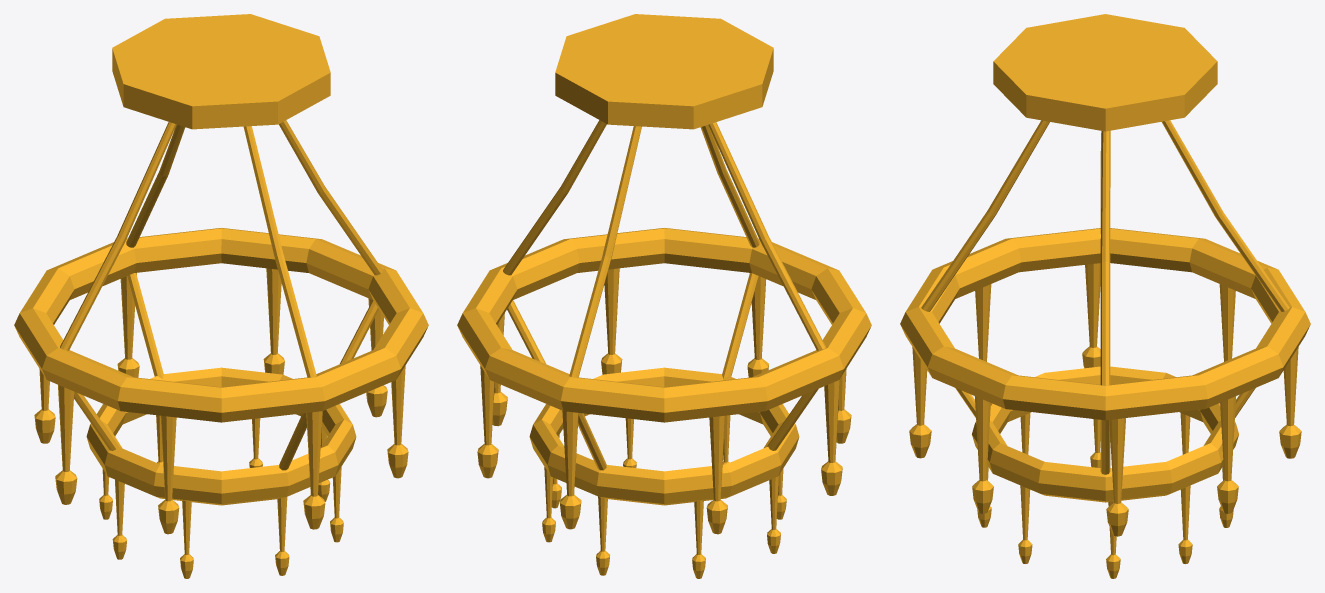
The model's file is Chandelier.fbx.
The picture shows the model from 3 angles, left to right: view 1: azimuth 30°, elevation 25°; view 2: azimuth 150°, elevation 25°; view 3: azimuth 270°, elevation 25°; orthographic projection.
Parts seen in each view (by area): view 1: Torus, Cylinder.026, Torus.001, Cylinder.023, Cylinder.024, Cylinder.025; view 2: Torus, Cylinder.026, Torus.001, Cylinder.023, Cylinder.024, Cylinder.025; view 3: Torus, Cylinder.026, Torus.001, Cylinder.023, Cylinder.024, Cylinder.025.
Boxes of the visible parts, <box> form: Torus: <box>14,228,428,422</box>; Cylinder.026: <box>60,14,382,377</box>; Torus.001: <box>86,367,356,505</box>; Cylinder.023: <box>34,268,408,534</box>; Cylinder.024: <box>99,415,343,578</box>; Cylinder.025: <box>74,273,378,470</box>; Torus: <box>457,228,871,422</box>; Cylinder.026: <box>503,14,825,377</box>; Torus.001: <box>529,367,799,505</box>; Cylinder.023: <box>477,268,851,534</box>; Cylinder.024: <box>542,415,786,578</box>; Cylinder.025: <box>507,273,818,470</box>; Torus: <box>900,228,1310,420</box>; Cylinder.026: <box>921,14,1289,385</box>; Torus.001: <box>972,366,1238,502</box>; Cylinder.023: <box>909,263,1301,536</box>; Cylinder.024: <box>977,413,1233,578</box>; Cylinder.025: <box>955,388,1255,474</box>.
Bounding box in the file's own units: 110 × 110 × 137.
